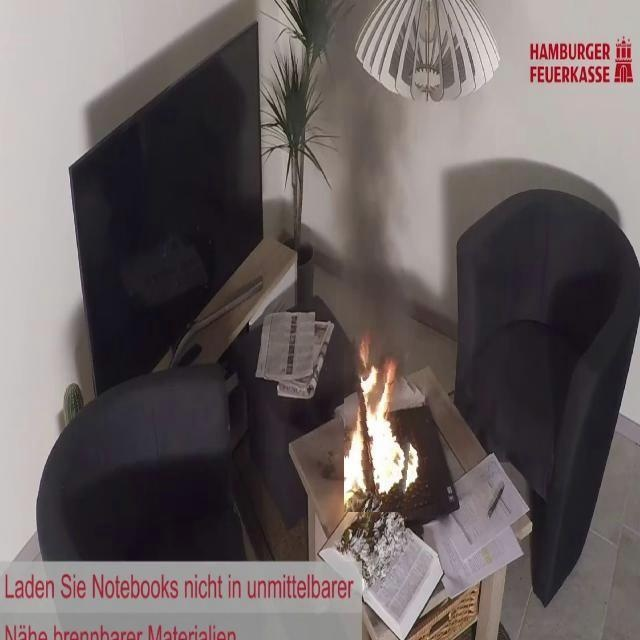fire: (300, 332, 442, 525)
